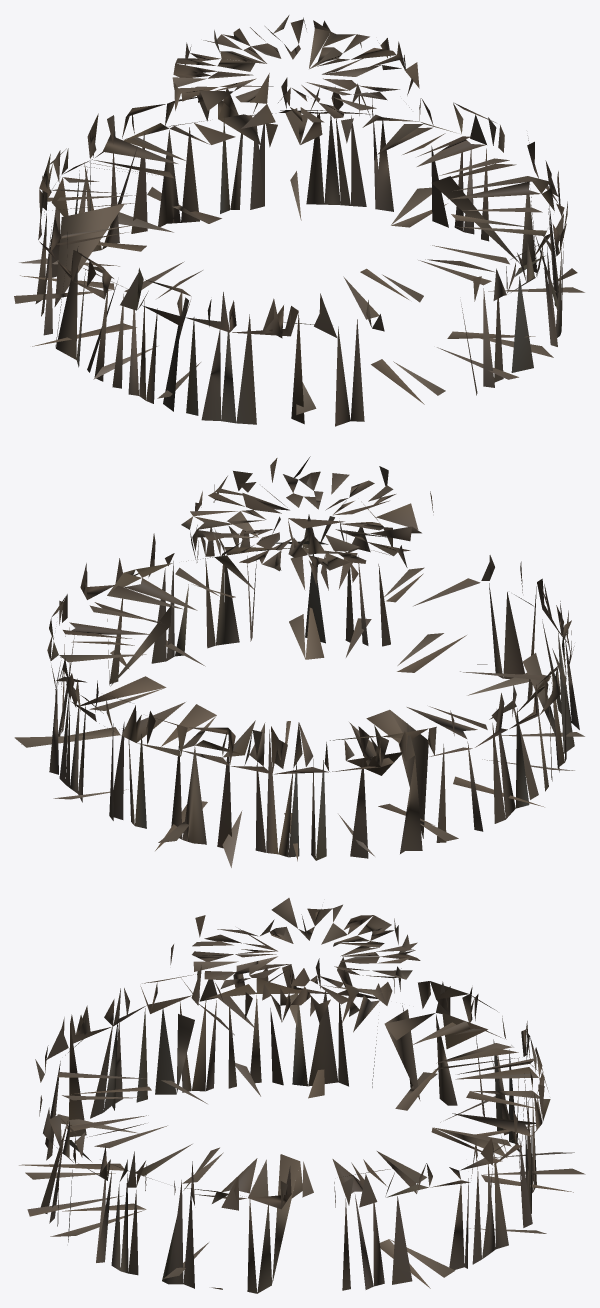
Rendered from monumento_b_lejos.glb.
3 views of the same model, one above another, from view 1: azimuth 30°, elevation 25°; view 2: azimuth 150°, elevation 25°; view 3: azimuth 270°, elevation 25° (orthographic). The views are drawn at different scales.
Parts seen in each view (by area): view 1: monumento_b_lejos; view 2: monumento_b_lejos; view 3: monumento_b_lejos.
Part boxes in pixels (x1,y1,x2,y2): monumento_b_lejos: (14,15,584,426); monumento_b_lejos: (14,456,584,867); monumento_b_lejos: (19,898,585,1293).
Bounding box in the file's own units: 17.71 × 8.92 × 18.3.
